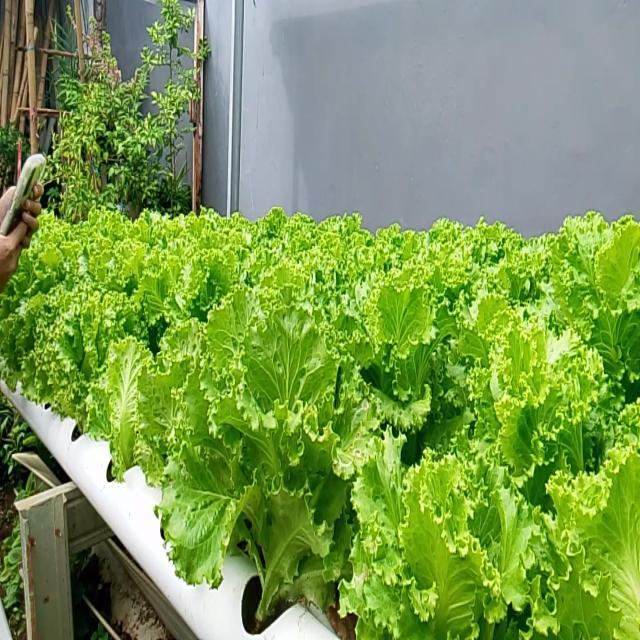Mature: (0, 211, 640, 639), (165, 325, 357, 620), (4, 255, 146, 469)
